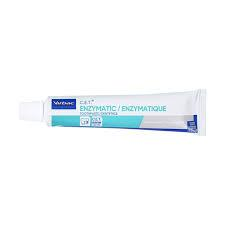toothpaste: (13, 85, 215, 142)
